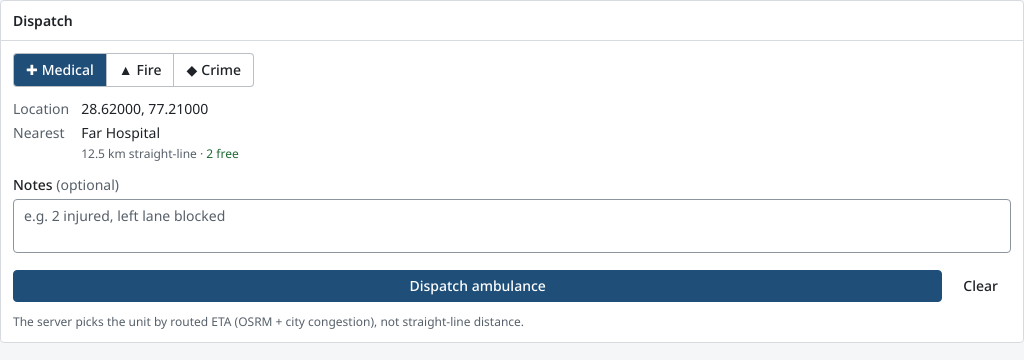
Test: DispatchPanel › switching the type re-targets the preview
The image size is (1024, 360).
Step 1. Click the radio button labelled "◆ Crime" → point(213, 70), box 174,54 -> 253,86
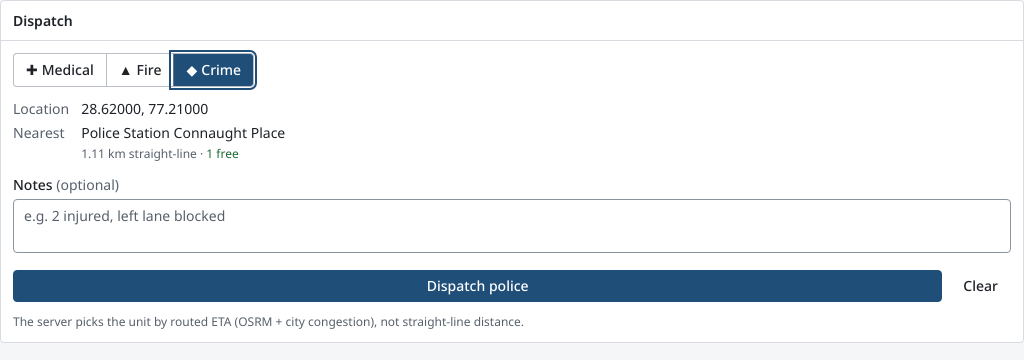
Expected: the text "Police Station Connaught Place" is shown, 81,123 -> 285,142
Expected: the button "Dispatch police" is shown, 13,270 -> 942,302
